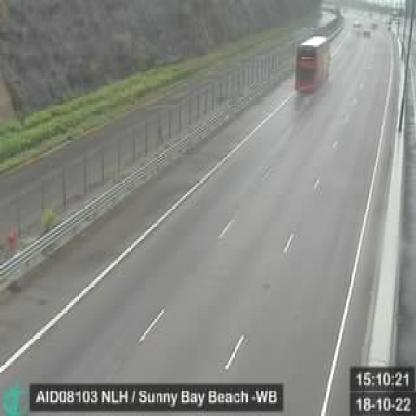Bus: (296, 34, 331, 93)
